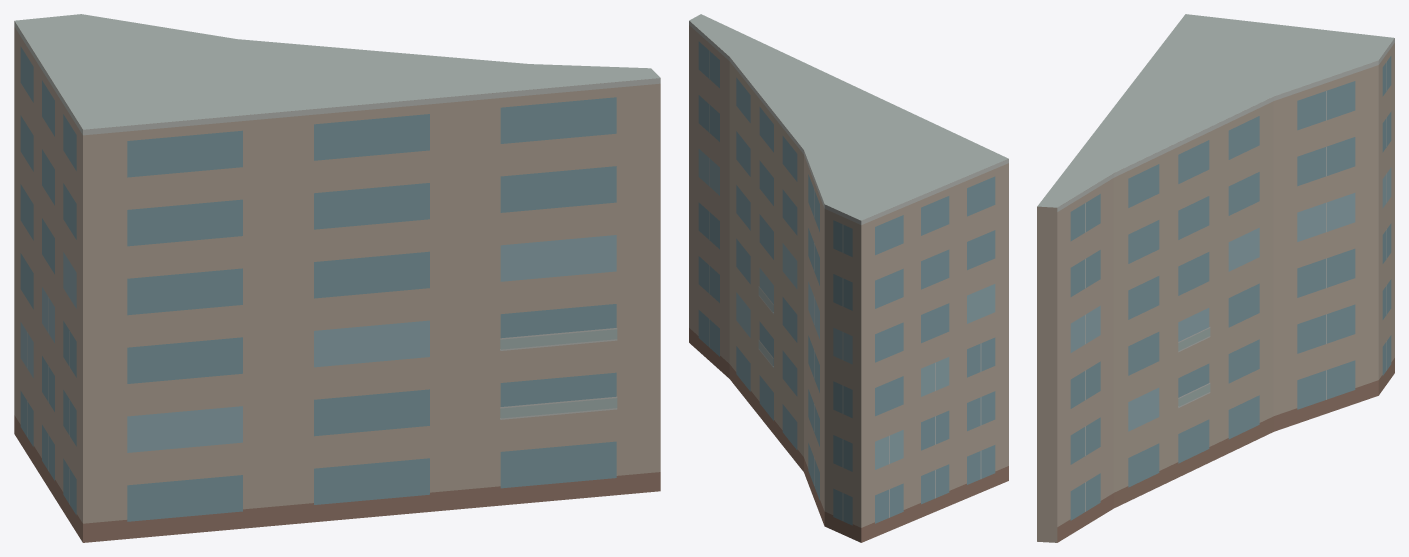
The model's file is survey-upis-32875289.glb.
3 views of the same model, side by side, from view 1: azimuth 30°, elevation 25°; view 2: azimuth 150°, elevation 25°; view 3: azimuth 270°, elevation 25° (orthographic). The views are drawn at different scales.
Visible parts, largest first — view 1: survey-upis-32875289.tmp; view 2: survey-upis-32875289.tmp; view 3: survey-upis-32875289.tmp.
Part boxes in pixels (left/top/right/bottom): survey-upis-32875289.tmp: left=14, top=14, right=660, bottom=542; survey-upis-32875289.tmp: left=689, top=14, right=1008, bottom=542; survey-upis-32875289.tmp: left=1037, top=14, right=1394, bottom=542.
Size of the model in its own units: 22.19 by 17.9 by 17.32.
